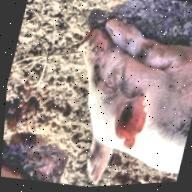boar: (44, 9, 192, 189)
